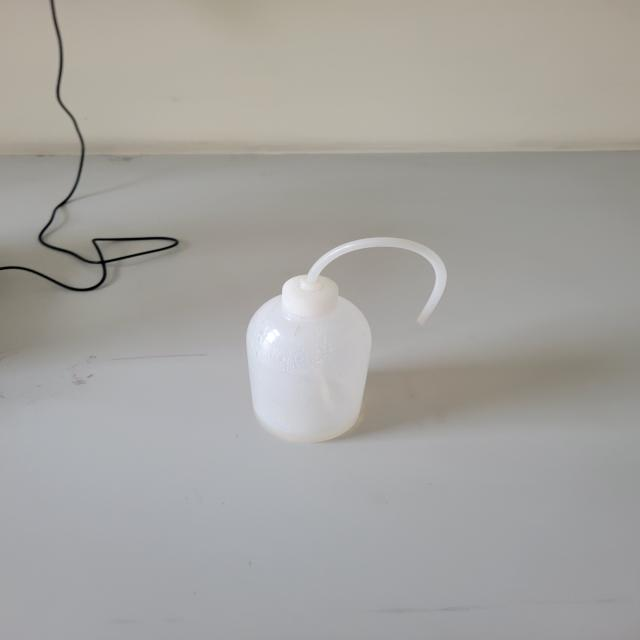Wash_Bottle: (172, 202, 488, 484)
